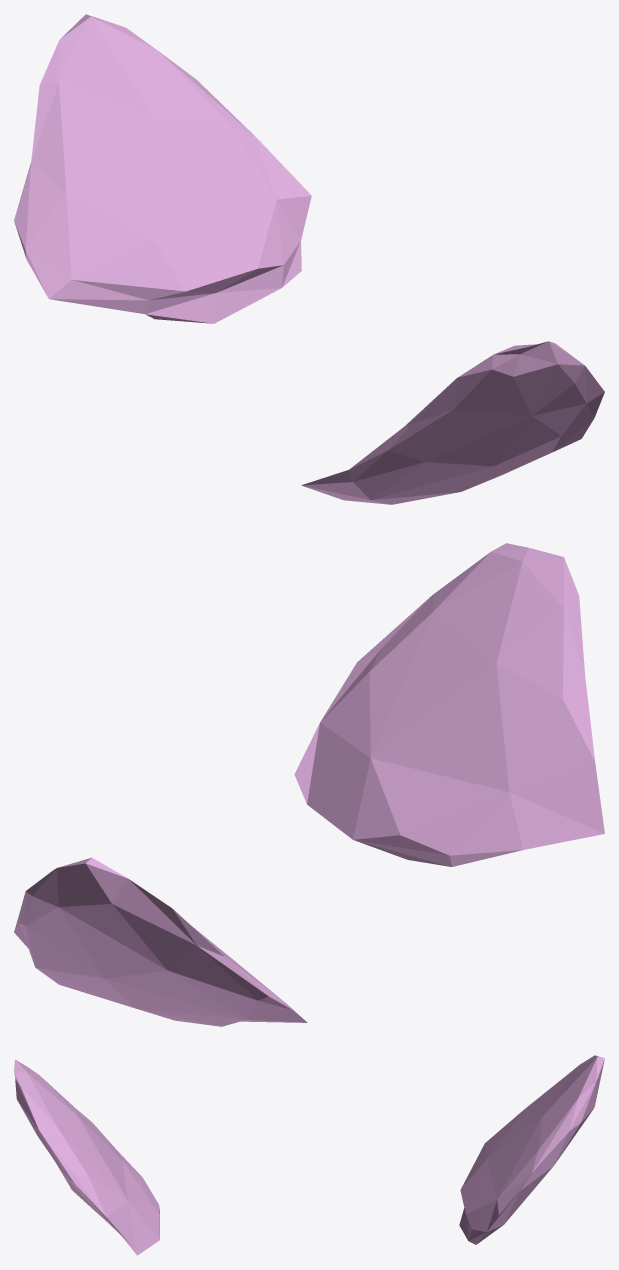
3 views of the same model, one above another, from view 1: azimuth 30°, elevation 25°; view 2: azimuth 150°, elevation 25°; view 3: azimuth 270°, elevation 25° (orthographic). The views are drawn at different scales.
Visible parts, largest first — view 1: 607344830.obj; view 2: 607344830.obj; view 3: 607344830.obj.
Part boxes in pixels (x1=…): 607344830.obj: x1=14, y1=14, x2=604, y2=504; 607344830.obj: x1=14, y1=543, x2=604, y2=1026; 607344830.obj: x1=14, y1=1055, x2=604, y2=1255.
Bounding box in the file's own units: 331 × 267 × 863.
